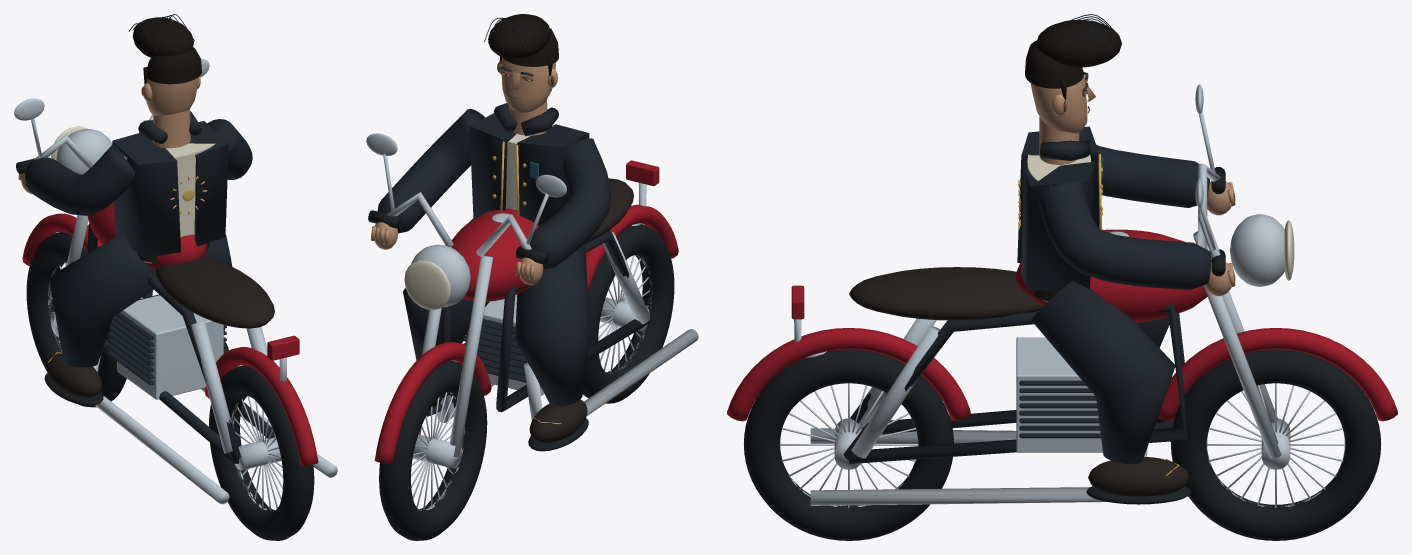
3 renders of one model, left to right at view 1: azimuth 30°, elevation 25°; view 2: azimuth 150°, elevation 25°; view 3: azimuth 270°, elevation 25°, orthographic. The views are drawn at different scales.
Parts seen in each view (by area): view 1: YN_Tire, YN_Bontan, YN_TanranJacket, YN_SteppedSeat, YN_Engine, YN_JacketSleeve, YN_Tire.001, YN_TanranJacket.001, YN_Fender, YN_Frame, YN_Exhaust, YN_Pompadour (+21 smaller); view 2: YN_Tire.001, YN_Bontan, YN_Tire, YN_JacketSleeve, YN_JacketSleeve.001, YN_FuelTank, YN_TanranJacket, YN_Fender.001, YN_TanranJacket.001, YN_Frame, YN_FrontFork, YN_Exhaust (+26 smaller); view 3: YN_Tire.001, YN_Tire, YN_Bontan.001, YN_JacketSleeve.001, YN_SteppedSeat, YN_Fender, YN_Fender.001, YN_Engine, YN_Frame.001, YN_TanranJacket.001, YN_JacketSleeve, YN_Exhaust.001 (+16 smaller).
Boxes of the visible parts, x1,y1,x2,y2 form: YN_Tire: (209, 365, 314, 540); YN_Bontan: (50, 236, 156, 367); YN_TanranJacket: (112, 133, 180, 257); YN_SteppedSeat: (155, 256, 274, 328); YN_Engine: (117, 295, 223, 399); YN_JacketSleeve: (24, 144, 135, 215); YN_Tire.001: (26, 232, 126, 407); YN_TanranJacket.001: (189, 121, 228, 246); YN_Fender: (204, 347, 318, 465); YN_Frame: (87, 224, 241, 463); YN_Exhaust: (93, 358, 229, 504); YN_Pompadour: (132, 17, 193, 57); YN_Tire.001: (379, 360, 487, 540); YN_Bontan: (515, 243, 590, 406); YN_Tire: (583, 224, 674, 403); YN_JacketSleeve: (527, 138, 611, 269); YN_JacketSleeve.001: (377, 108, 484, 233); YN_FuelTank: (451, 208, 545, 301); YN_TanranJacket: (517, 124, 589, 226); YN_Fender.001: (374, 342, 491, 463); YN_TanranJacket.001: (469, 113, 516, 219); YN_Frame: (496, 230, 649, 412); YN_FrontFork: (449, 255, 493, 457); YN_Exhaust: (524, 329, 698, 420); YN_Tire.001: (1171, 349, 1380, 540); YN_Tire: (744, 349, 953, 540); YN_Bontan.001: (1031, 281, 1175, 464); YN_JacketSleeve.001: (1036, 180, 1211, 289); YN_SteppedSeat: (849, 267, 1043, 320); YN_Fender: (727, 328, 970, 421); YN_Fender.001: (1158, 328, 1397, 421); YN_Engine: (1016, 337, 1102, 452); YN_Frame.001: (843, 303, 1189, 463); YN_TanranJacket.001: (1021, 161, 1096, 290); YN_JacketSleeve: (1096, 144, 1209, 207); YN_Exhaust.001: (810, 447, 1147, 505).
Size of the model in its own units: 0.83 by 1.78 by 2.1.
